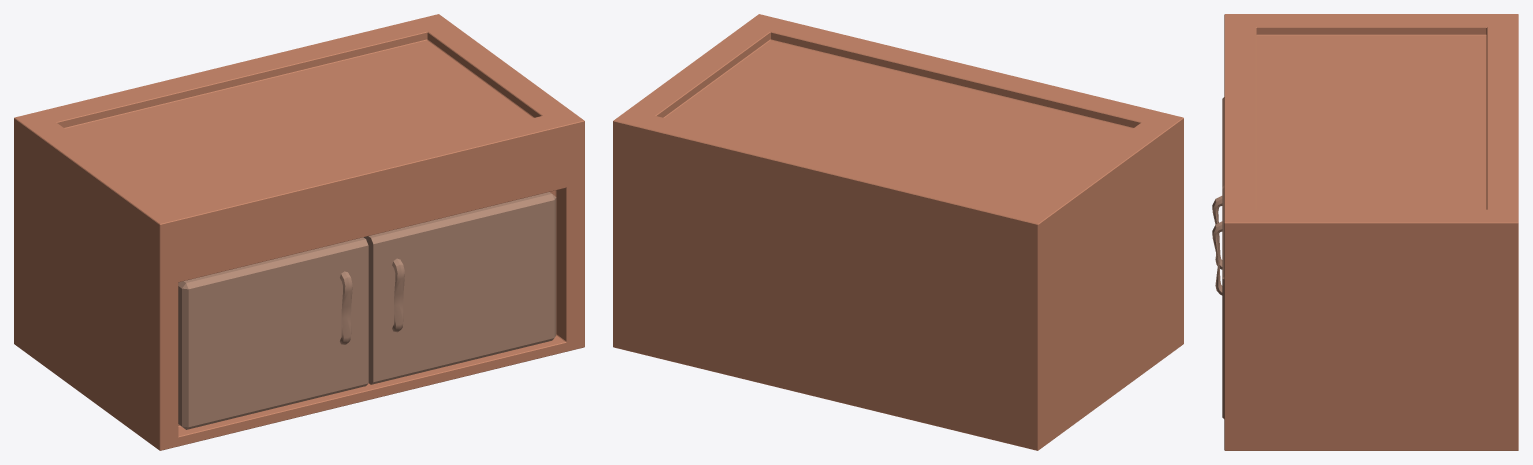
File: Top Vertical Cabinet Frame.fbx
3 renders of one model, left to right at view 1: azimuth 30°, elevation 25°; view 2: azimuth 150°, elevation 25°; view 3: azimuth 270°, elevation 25°, orthographic.
Parts seen in each view (by area): view 1: Top Vertical Cabinet Frame, Top Left Vertical Cabinet, Top Right Vertical Cabinet; view 2: Top Vertical Cabinet Frame; view 3: Top Vertical Cabinet Frame, Top Right Vertical Cabinet, Top Left Vertical Cabinet.
Boxes of the visible parts, x1,y1,x2,y2 form: Top Vertical Cabinet Frame: (14, 14, 584, 450); Top Left Vertical Cabinet: (178, 237, 368, 429); Top Right Vertical Cabinet: (364, 192, 556, 384); Top Vertical Cabinet Frame: (613, 14, 1183, 450); Top Vertical Cabinet Frame: (1224, 14, 1518, 450); Top Right Vertical Cabinet: (1212, 188, 1224, 418); Top Left Vertical Cabinet: (1212, 97, 1224, 269).
Size of the model in its own units: 59.52 by 96.05 by 48.97.
